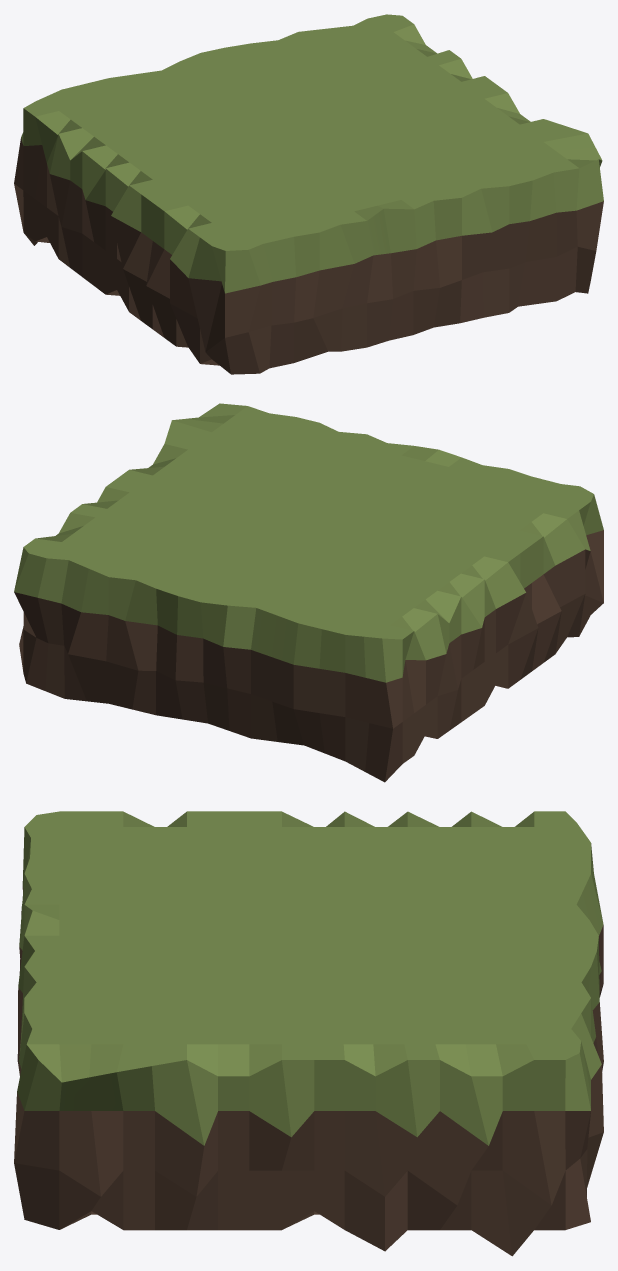
The model's file is squareTextured.fbx.
3 renders of one model, top to bottom at view 1: azimuth 30°, elevation 25°; view 2: azimuth 150°, elevation 25°; view 3: azimuth 270°, elevation 25°, orthographic. The views are drawn at different scales.
Parts seen in each view (by area): view 1: Cube.001; view 2: Cube.001; view 3: Cube.001.
Boxes of the visible parts, x1,y1,x2,y2 form: Cube.001: [14, 14, 603, 374]; Cube.001: [14, 403, 603, 782]; Cube.001: [14, 811, 603, 1256].
Bounding box in the file's own units: 261 × 89.58 × 239.
